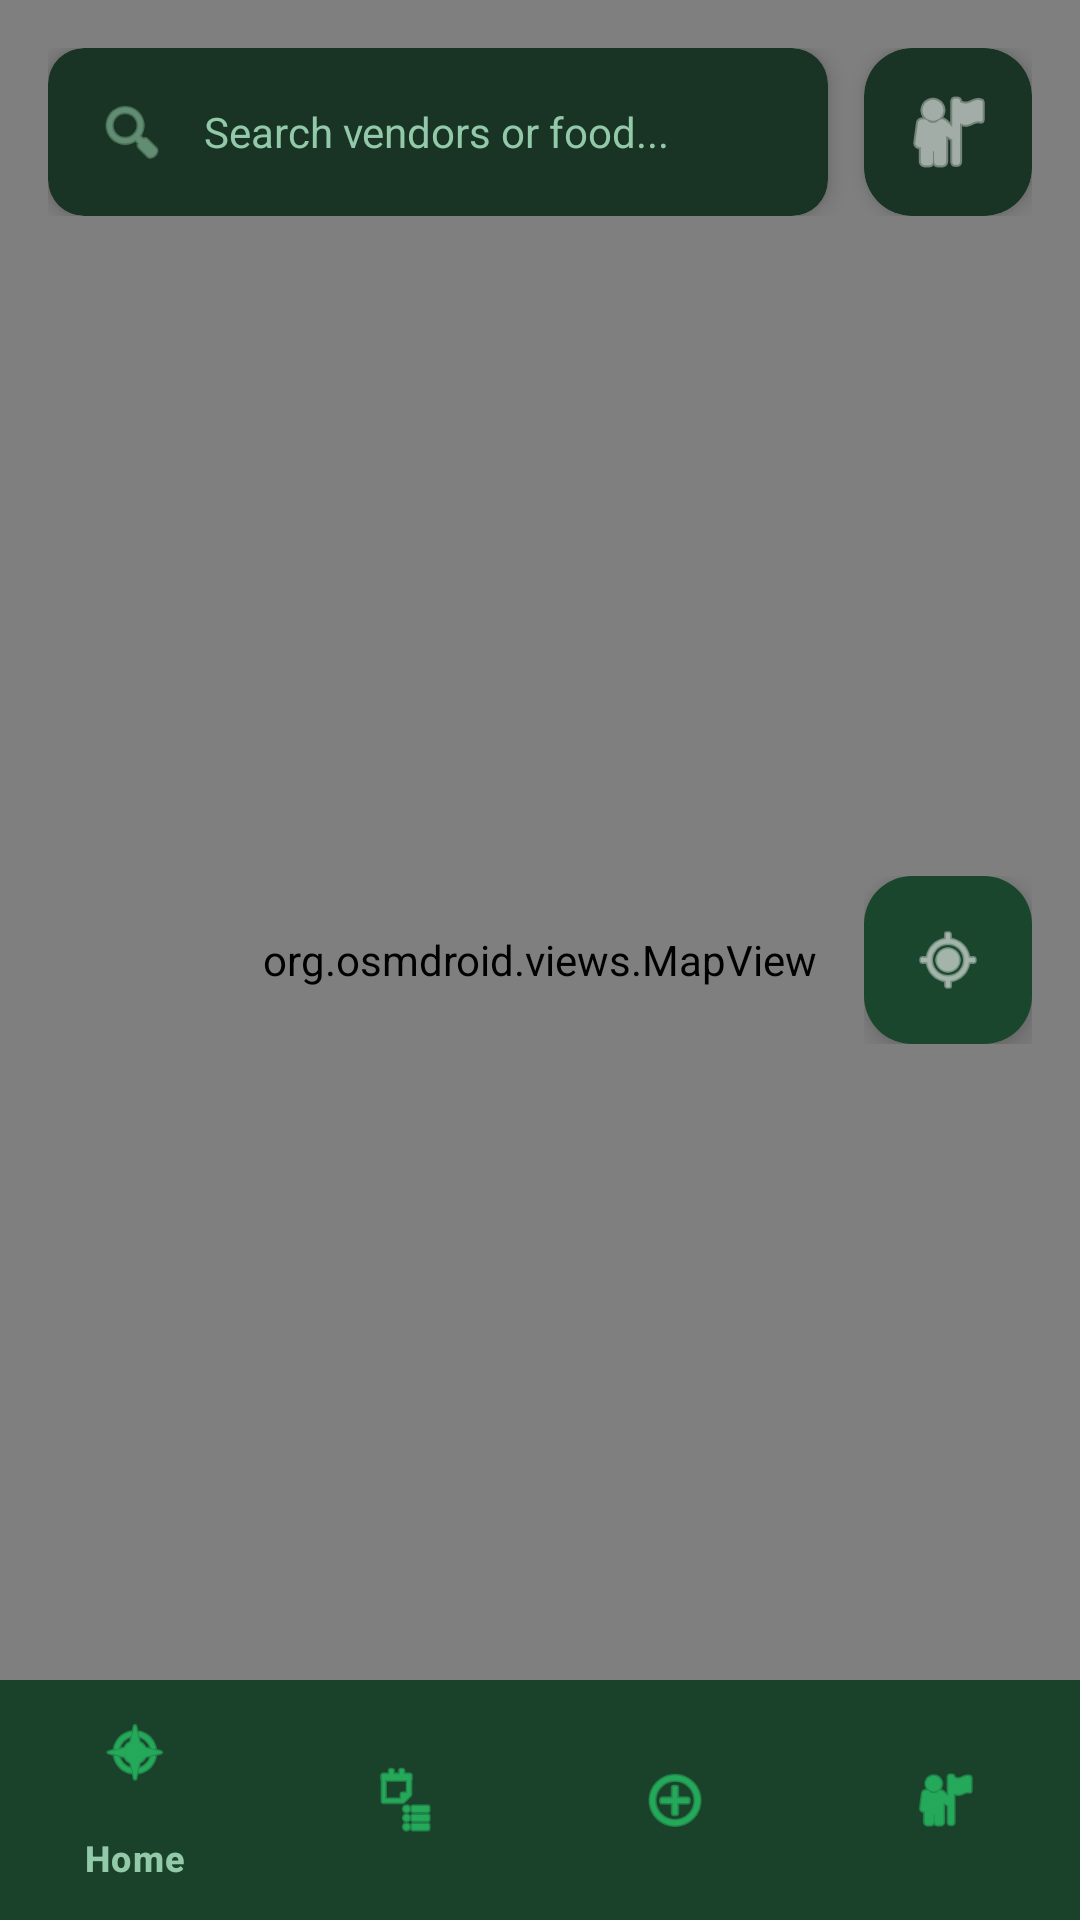

Icons on this 1080px×1920px Android screen, each with its box as (x1, y1, x2, y2):
mylocation: (864, 876, 1032, 1044)
